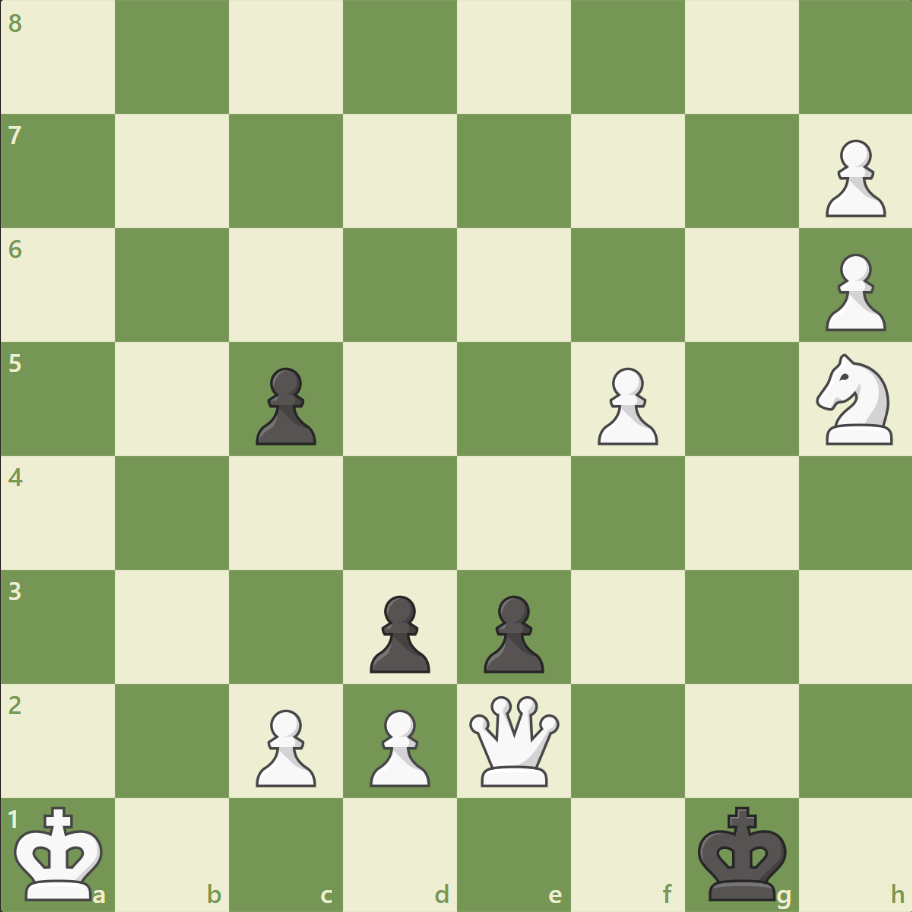K: (11, 798, 111, 906)
N: (806, 348, 903, 450)
P: (247, 700, 322, 791), (815, 132, 889, 223), (815, 246, 889, 337), (588, 359, 662, 450), (361, 700, 435, 791)
Q: (464, 690, 563, 789)
k: (692, 798, 792, 906)
p: (247, 359, 322, 450), (474, 586, 549, 677), (361, 586, 435, 677)
